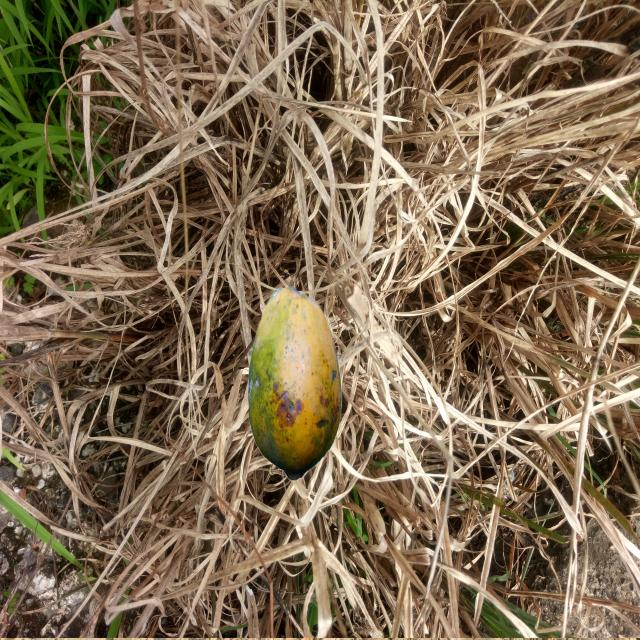Pepaya rippen: (241, 277, 351, 486)
